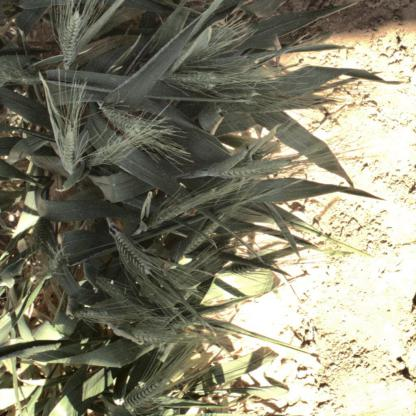whd: (112, 233, 148, 272), (183, 218, 221, 254), (227, 158, 291, 176), (101, 106, 140, 132), (62, 12, 80, 66), (146, 204, 186, 227), (126, 381, 162, 405), (89, 141, 120, 165), (173, 74, 217, 90), (231, 258, 275, 274), (94, 276, 122, 298), (63, 130, 78, 170), (73, 307, 114, 320), (131, 329, 164, 342), (34, 216, 46, 250), (12, 71, 40, 85), (43, 256, 57, 278), (222, 102, 244, 110), (250, 148, 264, 160)
